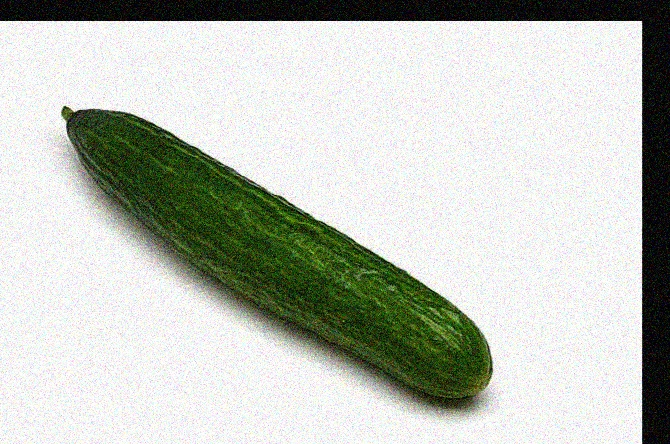cucumber: (58, 101, 490, 395)
